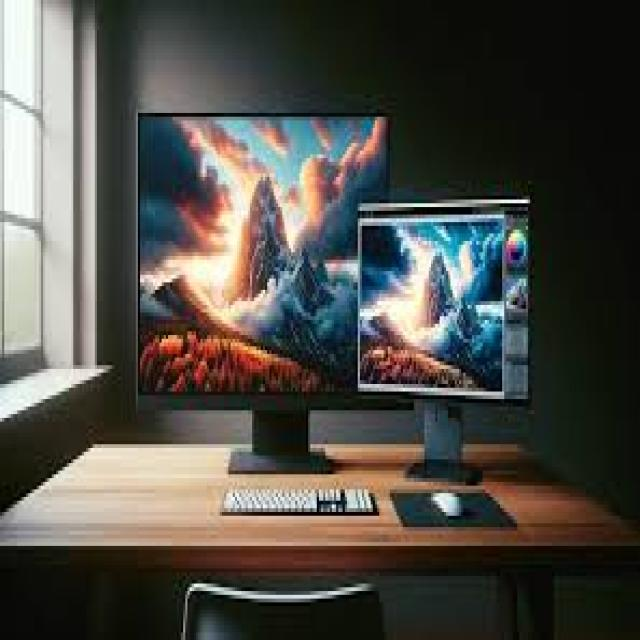monitor: (132, 103, 530, 403)
